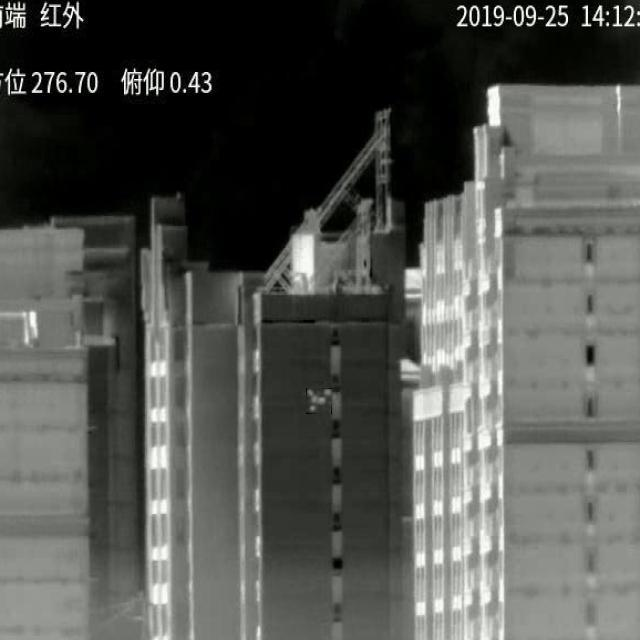drone: (307, 389, 332, 414)
